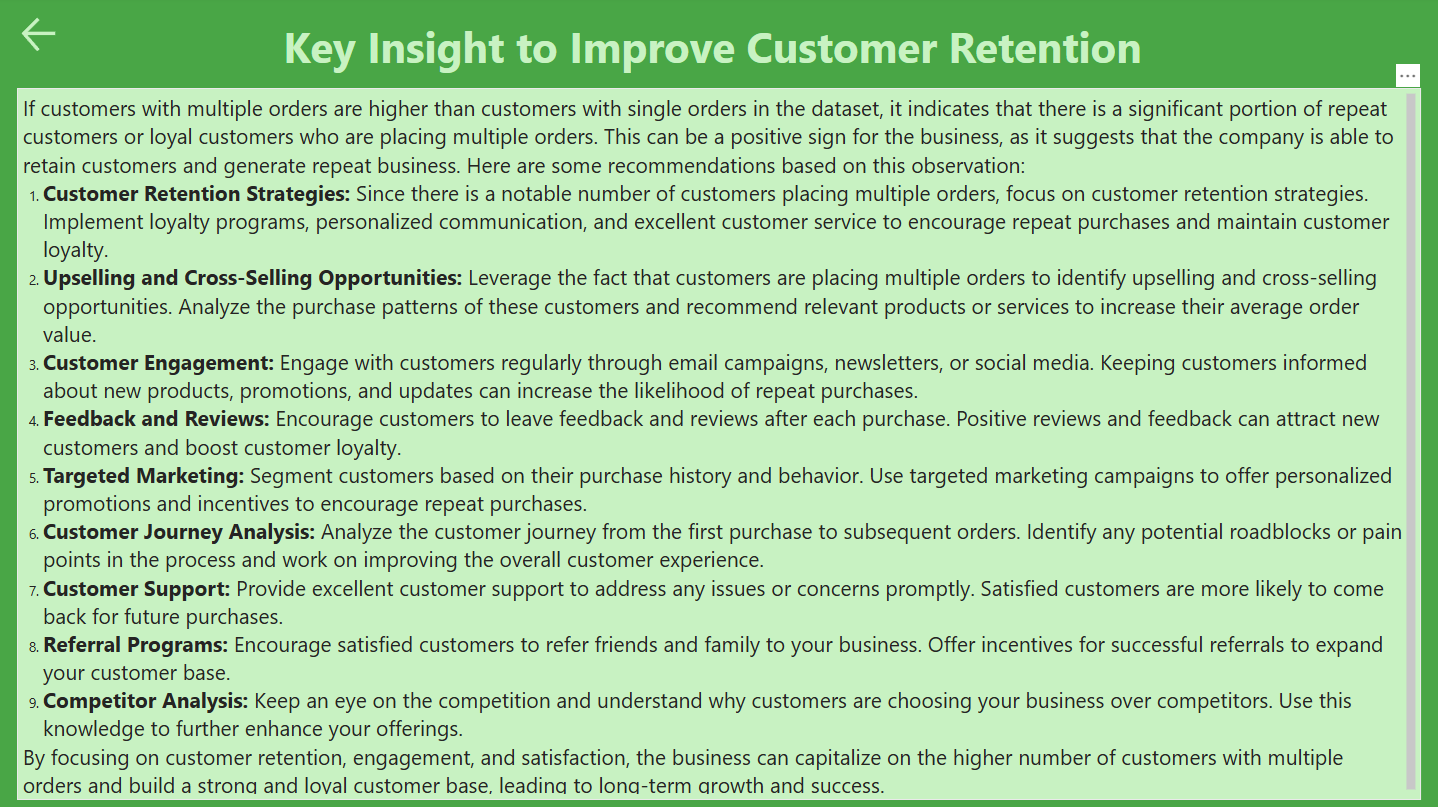

The dashboard page shown, as its layout file describes it:
{"tool":"powerbi","page":{"name":"Key Insights","canvas":[1280,720],"ordinal":2},"visuals":[{"type":"textbox","box":[17.7,103.7,1244.9,582.6],"z":0},{"type":"actionButton","box":[17.7,13.3,42.6,39.9],"z":1},{"type":"textbox","box":[60.3,23.1,1148.3,68.3],"z":2}]}

Visuals, with their boxes in screenshot pixels (x1, y1, x2, y2), scaled from the page's 1280x720 canvas onto the 1438x807 screenshot:
textbox: {"left": 20, "top": 116, "right": 1418, "bottom": 769}
actionButton: {"left": 20, "top": 15, "right": 68, "bottom": 60}
textbox: {"left": 68, "top": 26, "right": 1358, "bottom": 102}
